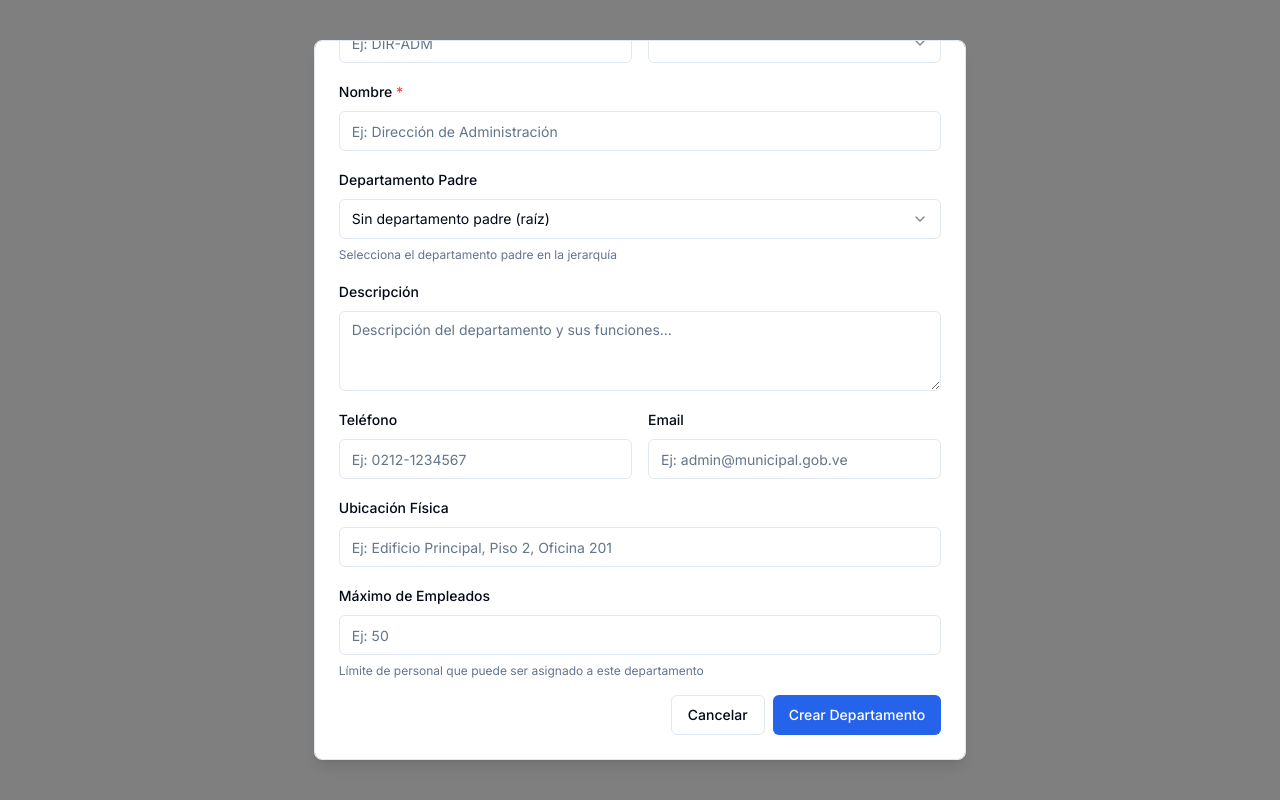
CreateDepartmentModal Component › shows validation errors for empty required fields
(page scrolled)
What coordinates should you click on to do the following:
click the button "Crear Departamento"
I would click on:
 (857, 715)
Its box is [773,695,941,735].
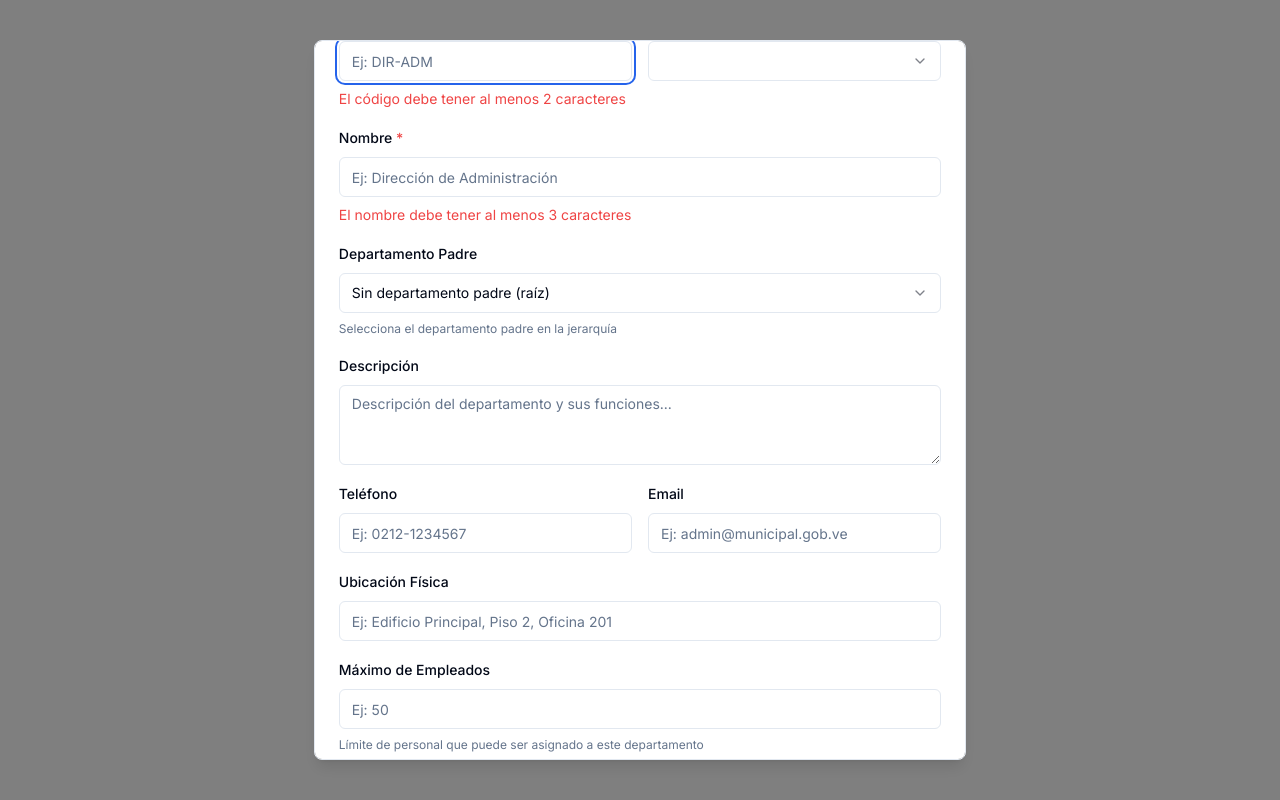
Check: the text "El código debe tener al menos 2 caracteres" is shown, box [339,89,632,109]
